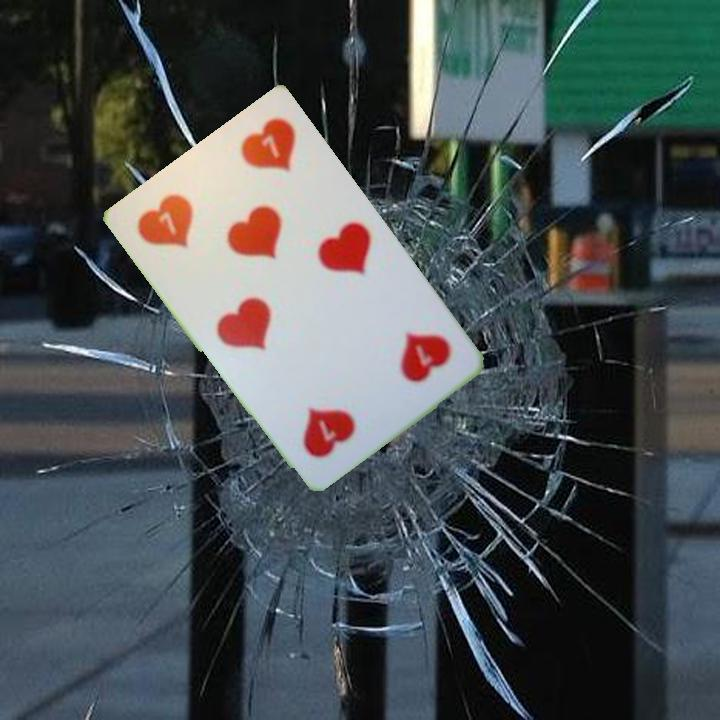h_7.png: (338, 296, 467, 422), (123, 161, 252, 287)
